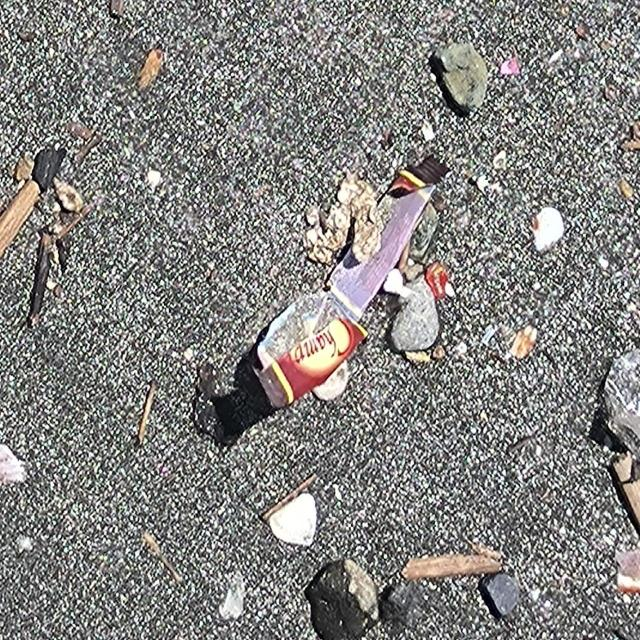plastic_waste: (249, 154, 451, 412)
